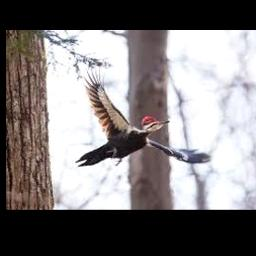Woodpecker: (76, 67, 211, 166)
